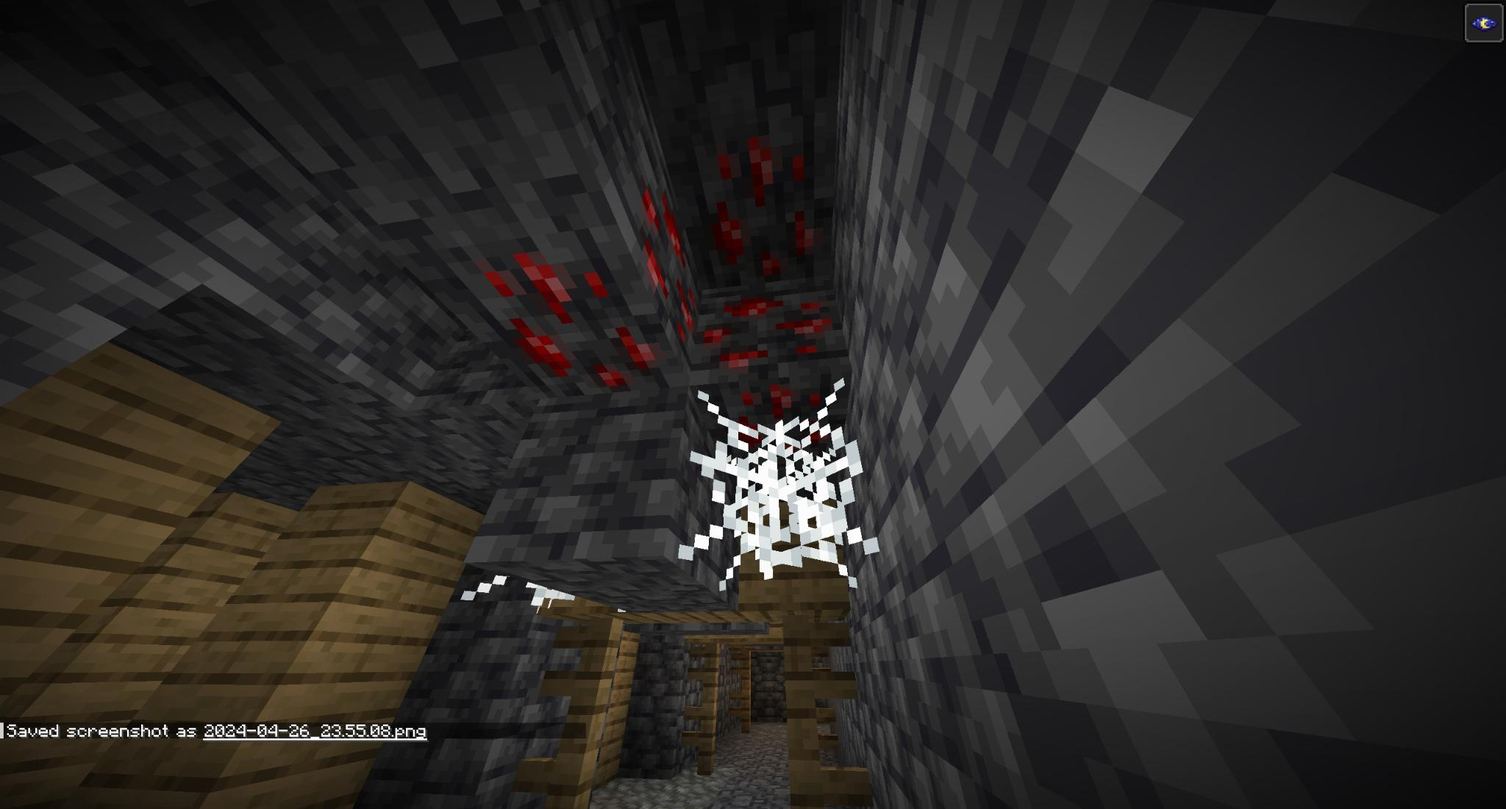redstone ore: (479, 237, 655, 395), (677, 125, 831, 285), (696, 287, 843, 375), (626, 194, 702, 354), (712, 381, 841, 468)
